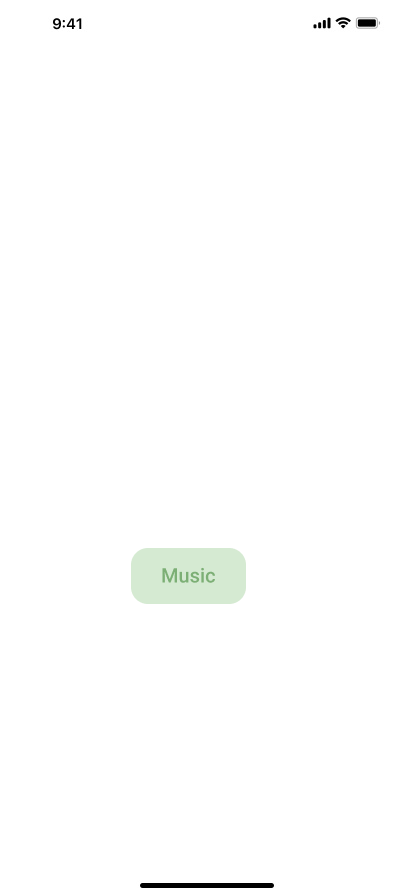Buttons: (131, 548, 254, 604)
Home Indicator: (0, 862, 414, 896)
Status Bar: (0, 0, 414, 44)
